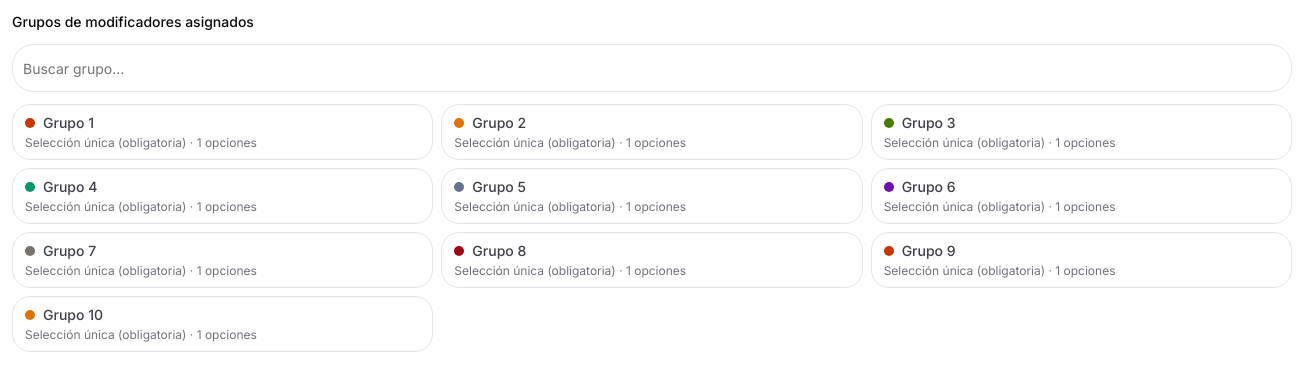
ModifierGroupAssignmentField › shows a search box only when there are many groups and filters by name
In the field with placeholder "Buscar grupo...": (652, 68) [12,44,1292,92], type "Grupo 10"
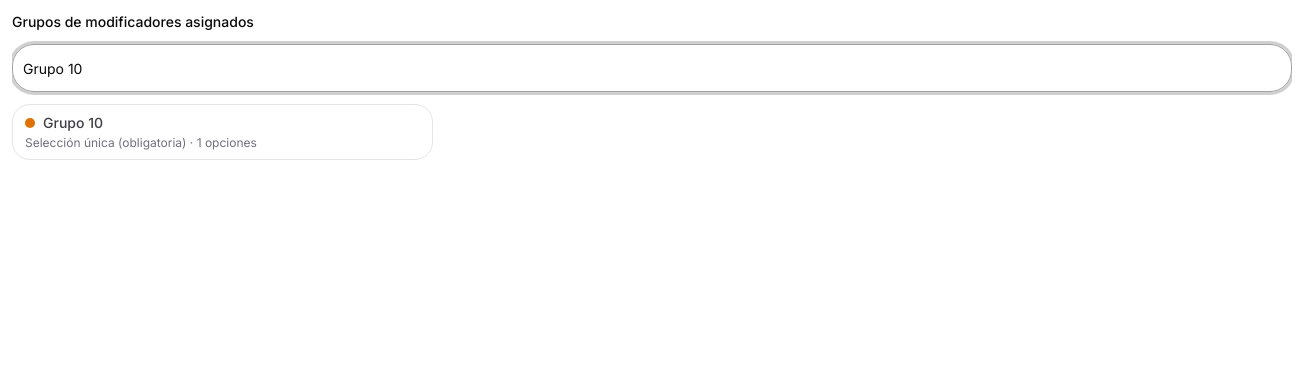
Expected: the button "Grupo 10 Selección única (obligatoria) · 1 opciones" is shown, [12,104,433,160]
Now the button "Grupo 2" is gone
